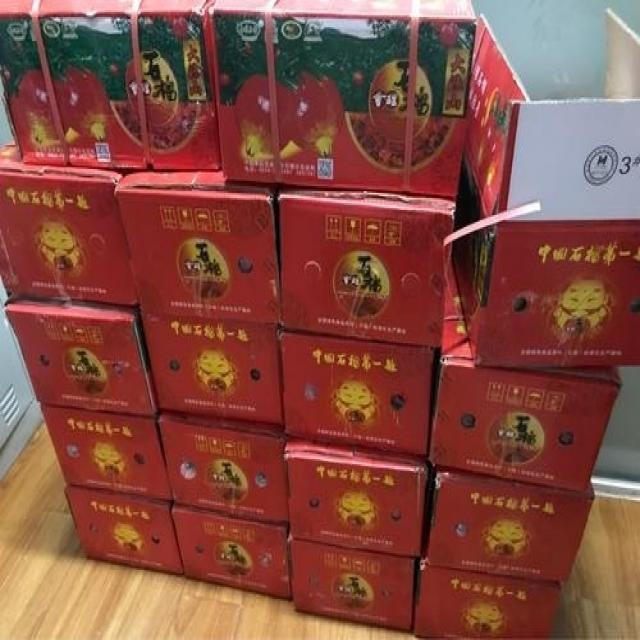box: (452, 10, 639, 366), (209, 1, 478, 196), (428, 254, 622, 491), (0, 1, 220, 171), (277, 187, 455, 347), (114, 167, 281, 325), (0, 136, 139, 306), (421, 470, 597, 586), (280, 331, 436, 459), (3, 302, 157, 417), (285, 441, 430, 555), (156, 409, 289, 523), (142, 319, 282, 425), (41, 409, 172, 501), (413, 558, 561, 638), (287, 539, 416, 630), (171, 505, 291, 599), (64, 487, 183, 576)
